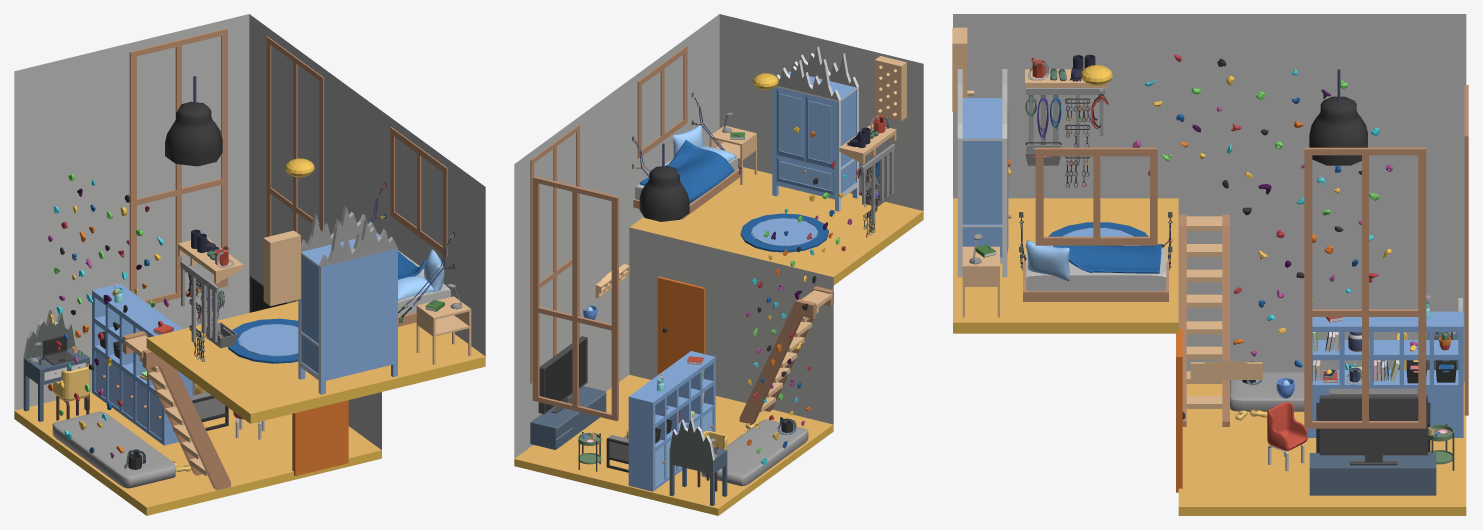
3 renders of one model, left to right at view 1: azimuth 30°, elevation 25°; view 2: azimuth 150°, elevation 25°; view 3: azimuth 270°, elevation 25°, orthographic. The views are drawn at different scales.
Visible parts, largest first — view 1: Cube_Room.001, Cube_Wardrobe.002, Cube_Kast.001, Cube_Window.001, Cube_Mat.001, Cube_Door.001, Cube_StairBalk2.002, Cube_Window.002, Cube_Hanglamp.001, Cube_Desk.001, Cylinder_Mat.001, Cylinder.PegBoard.001 (+12 smaller); view 2: Cube_Room.001, Cube_Wardrobe.002, Cube_Kast.001, Cube_Window.001, Cube_Door.001, Cube_Mat.001, Cube_Desk.001, Cylinder_Mat.001, Cube_StairBalk2.002, Cube_TVStand.001, Cube_Window.002, Plane_NewBlanket.001 (+12 smaller); view 3: Cube_Room.001, Cube_Window.002, Cube_Kast.001, Cube_Wardrobe.002, Cube_TV.001, Cube_TVStand.001, Cube_Window.003, Cube_StairStep1, Cube_StairBalk2.002, Cube_Matras, Cube_Hanglamp.001, Plane_NewBlanket.001 (+14 smaller).
Boxes of the visible parts, x1,y1,x2,y2 form: Cube_Room.001: [14, 14, 485, 515]; Cube_Wardrobe.002: [298, 204, 397, 394]; Cube_Kast.001: [92, 283, 192, 445]; Cube_Window.001: [129, 28, 227, 304]; Cube_Mat.001: [52, 411, 175, 488]; Cube_Door.001: [292, 400, 348, 475]; Cube_StairBalk2.002: [122, 331, 230, 490]; Cube_Window.002: [266, 36, 323, 301]; Cube_Hanglamp.001: [165, 101, 222, 166]; Cube_Desk.001: [23, 309, 89, 421]; Cylinder_Mat.001: [228, 318, 298, 363]; Cylinder.PegBoard.001: [263, 230, 300, 306]; Cube_Room.001: [514, 14, 923, 515]; Cube_Wardrobe.002: [772, 46, 858, 211]; Cube_Kast.001: [628, 351, 715, 491]; Cube_Window.001: [532, 176, 618, 420]; Cube_Door.001: [657, 276, 705, 374]; Cube_Mat.001: [701, 419, 808, 486]; Cube_Desk.001: [669, 417, 727, 505]; Cylinder_Mat.001: [740, 213, 828, 252]; Cube_StairBalk2.002: [739, 286, 833, 424]; Cube_TVStand.001: [530, 386, 606, 449]; Cube_Window.002: [530, 124, 579, 383]; Plane_NewBlanket.001: [639, 140, 734, 203]; Cube_Room.001: [953, 14, 1466, 515]; Cube_Window.002: [1304, 147, 1426, 428]; Cube_Kast.001: [1307, 311, 1463, 437]; Cube_Wardrobe.002: [957, 69, 1008, 277]; Cube_TV.001: [1319, 395, 1427, 465]; Cube_TVStand.001: [1309, 453, 1436, 495]; Cube_Window.003: [1035, 147, 1157, 245]; Cube_StairStep1: [1186, 216, 1222, 408]; Cube_StairBalk2.002: [1179, 214, 1229, 426]; Cube_Matras: [1026, 247, 1166, 291]; Cube_Hanglamp.001: [1309, 96, 1367, 165]; Plane_NewBlanket.001: [1053, 244, 1162, 273].
Size of the model in its own units: 32.5 by 46 by 55.75.
